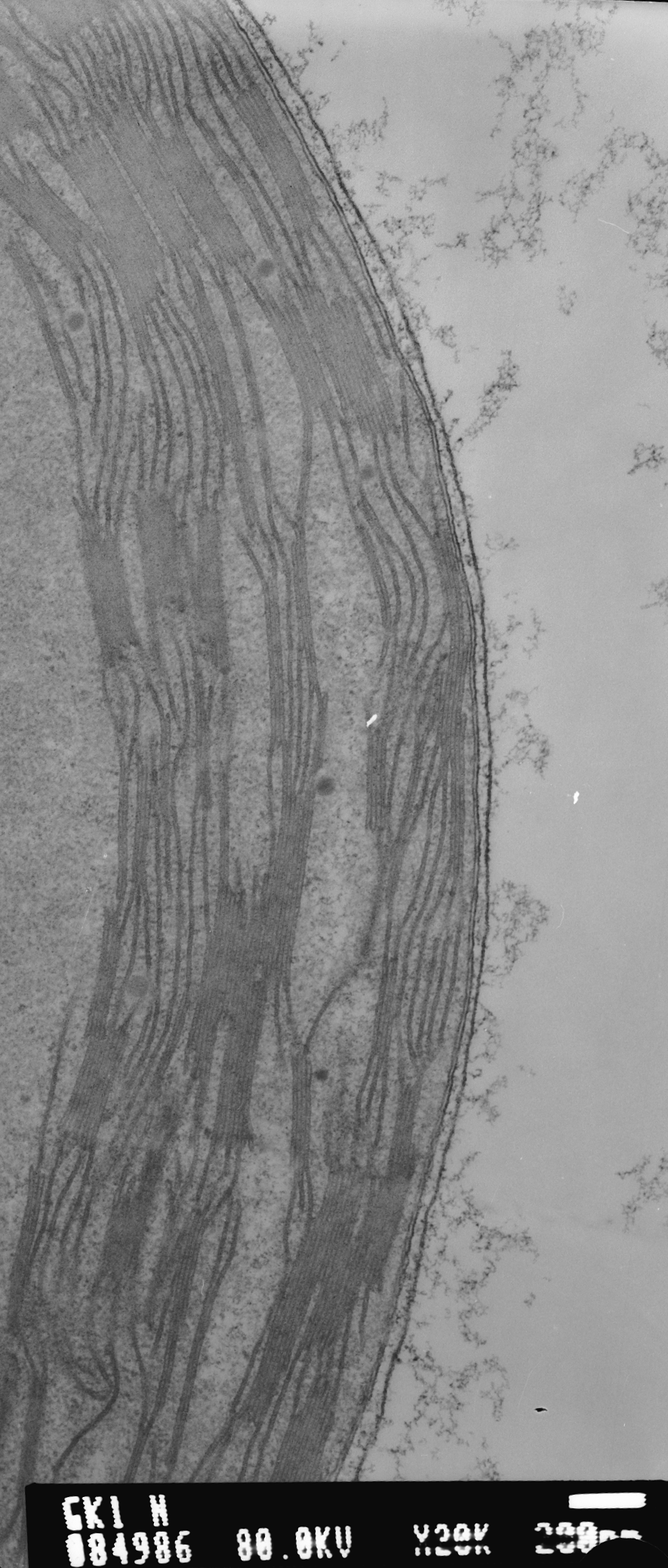granum: (184, 773, 317, 1150), (292, 1074, 425, 1358), (52, 125, 168, 360), (49, 901, 134, 1157), (186, 296, 266, 530), (290, 281, 401, 442), (92, 91, 197, 258), (152, 118, 258, 279), (228, 75, 324, 243), (232, 1257, 318, 1433), (251, 292, 341, 432), (0, 153, 92, 286), (94, 1147, 171, 1293), (75, 503, 142, 670), (144, 1194, 216, 1332), (268, 1368, 346, 1482), (191, 503, 236, 679), (133, 488, 189, 616), (434, 709, 471, 883), (5, 1167, 47, 1317), (15, 0, 135, 49), (424, 516, 465, 644), (258, 576, 288, 747), (283, 1044, 316, 1181), (367, 949, 404, 1061), (361, 715, 395, 836), (0, 52, 41, 148), (17, 1377, 47, 1499), (288, 539, 318, 653), (365, 835, 410, 911), (191, 683, 214, 797), (432, 643, 471, 709), (131, 788, 153, 888), (154, 1092, 186, 1134)
